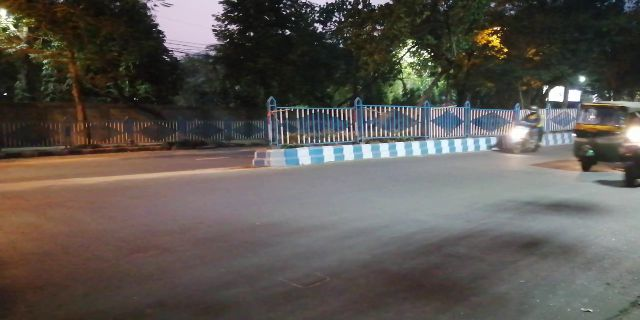Autorickshaw: (568, 100, 621, 169)
Motorbike: (503, 107, 551, 155)
